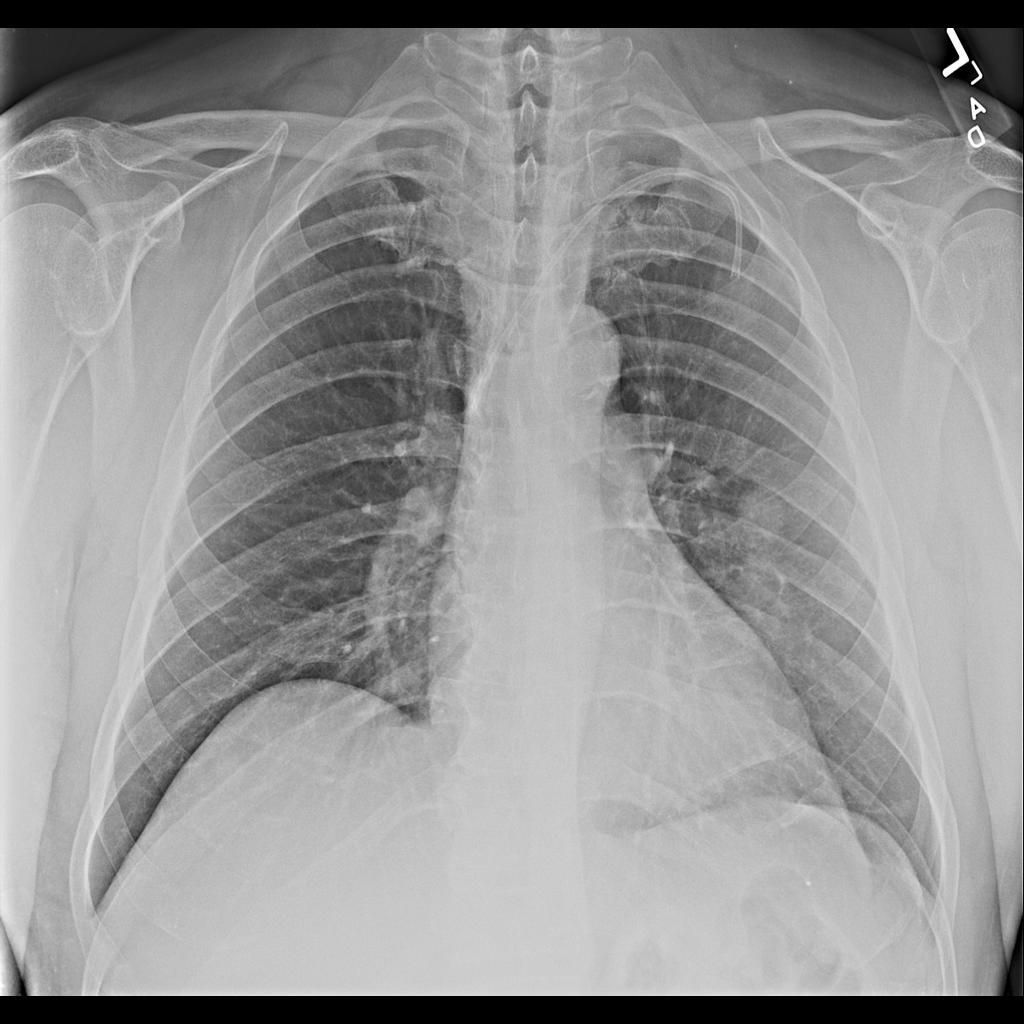Nodule: (737, 482, 787, 547)
